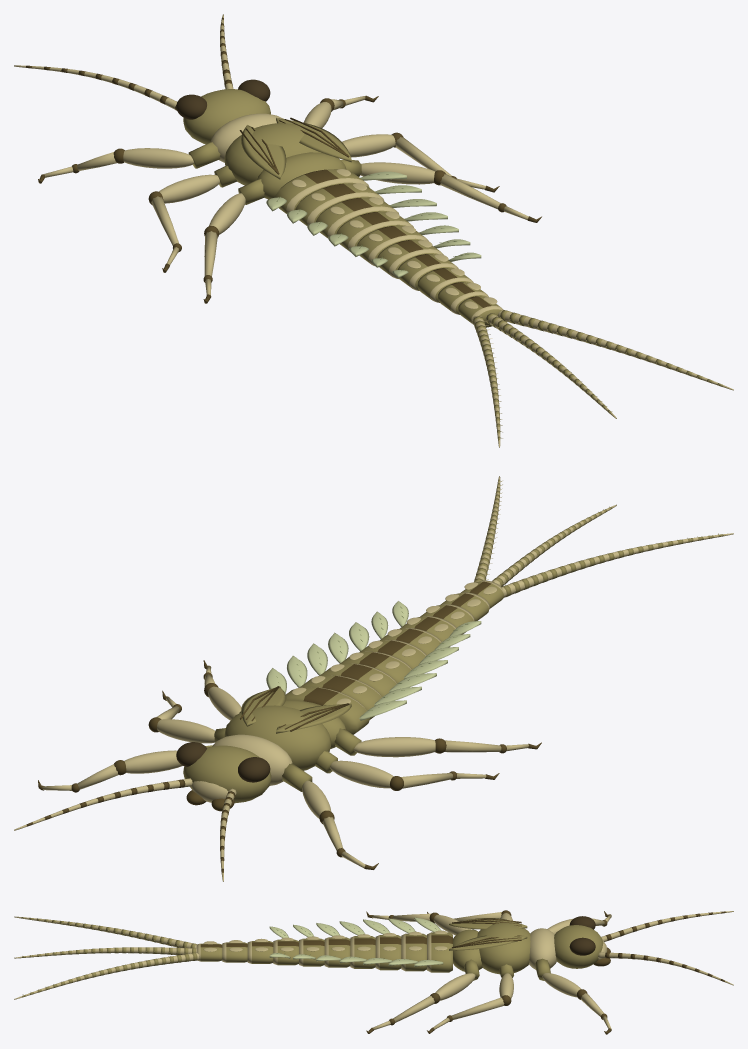
File: Betid_web.glb
3 renders of one model, top to bottom at view 1: azimuth 30°, elevation 25°; view 2: azimuth 150°, elevation 25°; view 3: azimuth 270°, elevation 25°, orthographic. The views are drawn at different scales.
Parts seen in each view (by area): view 1: torax, pota_1_E, pota_3_D, cap, pota_2_E, pota_3_E, cerc_D, pota_2_D, abdomen_01, abdomen_02, abdomen_03, abdomen_04 (+12 smaller); view 2: torax, cap, pota_3_E, pota_2_E, pota_1_D, pota_1_E, cerc_E, pota_2_D, abdomen_01, abdomen_02, abdomen_03, antena_D (+13 smaller); view 3: torax, cap, pota_3_D, pota_1_D, cerc_D, pota_2_D, cerc_E, abdomen_01, filament_central, abdomen_02, abdomen_03, abdomen_04 (+15 smaller).
Boxes of the visible parts, box(x1,y1,x2,y2) form: torax: box(210, 113, 346, 199); pota_1_E: box(38, 142, 220, 183); pota_3_D: box(341, 160, 541, 222); cap: box(183, 89, 270, 144); pota_2_E: box(148, 166, 237, 272); pota_3_E: box(203, 179, 265, 303); cerc_D: box(497, 309, 733, 390); pota_2_D: box(342, 132, 499, 192); abdomen_01: box(275, 169, 369, 213); abdomen_02: box(295, 183, 384, 225); abdomen_03: box(316, 197, 399, 238); abdomen_04: box(336, 211, 413, 251); torax: box(212, 700, 345, 785); cap: box(183, 745, 271, 803); pota_3_E: box(334, 728, 541, 757); pota_2_E: box(315, 751, 499, 790); pota_1_D: box(38, 745, 212, 792); pota_1_E: box(282, 763, 378, 869); cerc_E: box(501, 533, 733, 597); pota_2_D: box(148, 690, 225, 743); abdomen_01: box(286, 687, 369, 734); abdomen_02: box(299, 675, 381, 719); abdomen_03: box(319, 663, 396, 696); antena_D: box(14, 778, 192, 830); torax: box(453, 922, 556, 974); cap: box(554, 925, 607, 968); pota_3_D: box(366, 959, 479, 1033); pota_1_D: box(535, 958, 611, 1034); cerc_D: box(14, 953, 199, 999); pota_2_D: box(427, 964, 513, 1033); cerc_E: box(14, 916, 196, 948); abdomen_01: box(427, 930, 452, 972); filament_central: box(14, 947, 196, 958); abdomen_02: box(401, 931, 426, 971); abdomen_03: box(375, 933, 401, 970); abdomen_04: box(350, 934, 375, 968).
Bounding box in the file's own units: 5.45 × 1 × 13.78.
